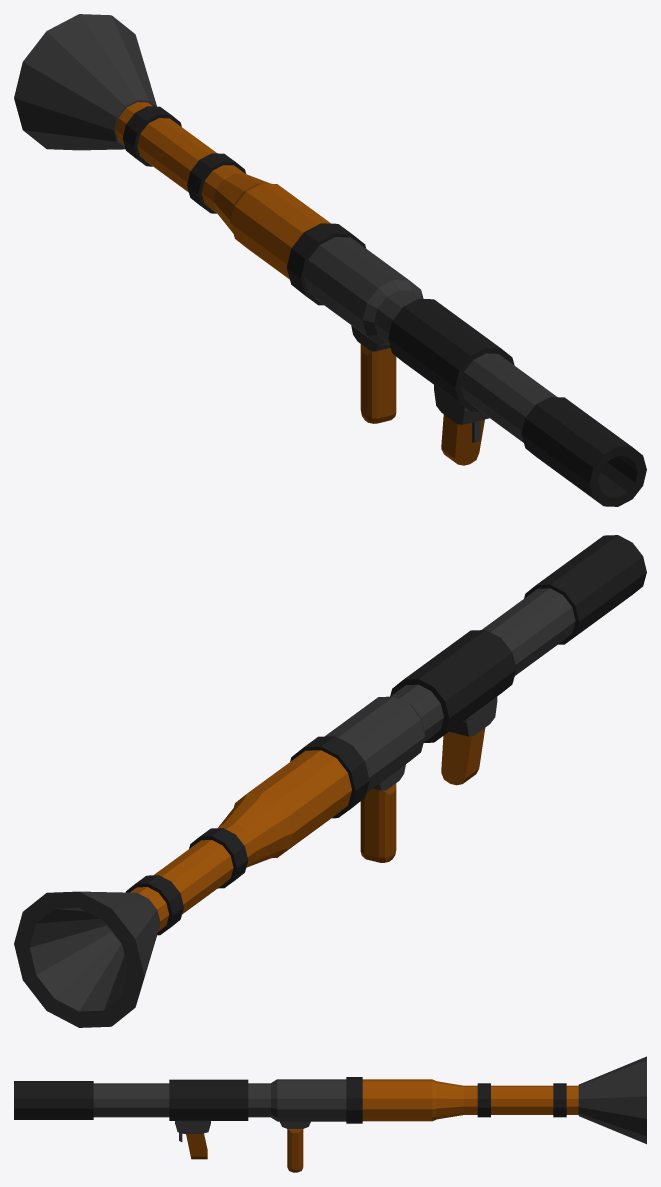
The model's file is RocketLauncher.fbx.
The picture shows the model from 3 angles, top to bottom: view 1: azimuth 30°, elevation 25°; view 2: azimuth 150°, elevation 25°; view 3: azimuth 270°, elevation 25°; orthographic projection. The views are drawn at different scales.
Parts seen in each view (by area): view 1: RocketLauncher; view 2: RocketLauncher; view 3: RocketLauncher.
Part boxes in pixels (x1,y1,x2,y2): RocketLauncher: (14,14,646,506); RocketLauncher: (14,535,646,1027); RocketLauncher: (14,1056,646,1172).
Bounding box in the file's own units: 24.63 × 33.85 × 176.
